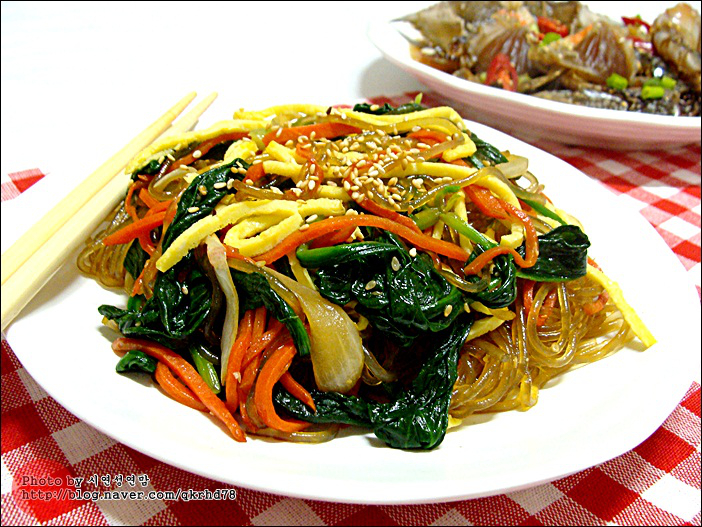jabchae: (71, 81, 637, 443)
